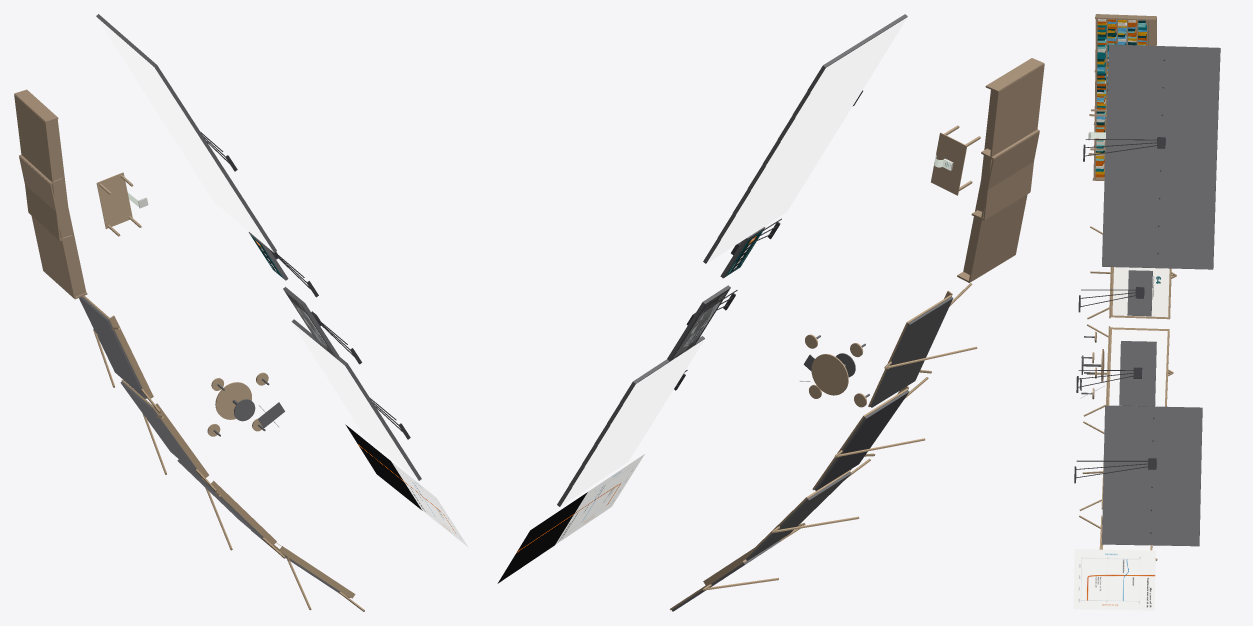
File: museum_room_6.glb
The picture shows the model from 3 angles, left to right: view 1: azimuth 30°, elevation 25°; view 2: azimuth 150°, elevation 25°; view 3: azimuth 270°, elevation 25°; orthographic projection. The views are drawn at different scales.
Parts seen in each view (by area): view 1: Regale r6_shelf, Träger mo_numbers, Pult r6_book, Tisch r6_table, Raum 6 Tür Strich über r6_door, Platzhalter r6_door, Träger mo_ride, Staffelei mo_numbers, Staffelei mo_ride, Staffelei mo_decisions, Staffelei mo_credits, Platzhalter r6_mistakes 0 (+7 smaller); view 2: Regale r6_shelf, Träger mo_numbers, Träger mo_ride, Raum 6 Tür Strich über r6_door, Platzhalter r6_door, Tisch r6_table, Pult r6_book, Platzhalter r6_mistakes 6, Platzhalter r6_mistakes 5, Platzhalter r6_mistakes 4, Platzhalter r6_mistakes 0, Platzhalter r6_mistakes 3 (+14 smaller); view 3: Platzhalter r6_door, Rückseite r6_mistakes 7, Rückseite r6_mistakes 3, Rückseite r6_mistakes 2, Rückseite r6_mistakes 1, Rückseite r6_mistakes 5, Rückseite r6_mistakes 6, Rückseite r6_mistakes 0, Rückseite r6_mistakes 4, Rückseite r6_plans 5, Rückseite r6_plans 1, Rückseite r6_plans 4 (+22 smaller).
Part boxes in pixels (x1,y1,x2,y2): Regale r6_shelf: [14, 89, 87, 299]; Träger mo_numbers: [79, 296, 146, 398]; Pult r6_book: [96, 172, 141, 236]; Tisch r6_table: [207, 372, 268, 436]; Raum 6 Tür Strich über r6_door: [345, 424, 422, 510]; Platzhalter r6_door: [392, 462, 468, 547]; Träger mo_ride: [120, 381, 201, 478]; Staffelei mo_numbers: [83, 296, 160, 412]; Staffelei mo_ride: [121, 379, 216, 491]; Staffelei mo_decisions: [202, 478, 285, 558]; Staffelei mo_credits: [273, 542, 364, 611]; Platzhalter r6_mistakes 0: [199, 179, 273, 252]; Regale r6_shelf: [957, 58, 1044, 282]; Träger mo_numbers: [870, 296, 953, 407]; Träger mo_ride: [814, 390, 909, 490]; Raum 6 Tür Strich über r6_door: [497, 492, 587, 583]; Platzhalter r6_door: [555, 454, 644, 544]; Tisch r6_table: [805, 334, 866, 407]; Pult r6_book: [931, 125, 980, 195]; Platzhalter r6_mistakes 6: [795, 41, 892, 117]; Platzhalter r6_mistakes 5: [780, 65, 877, 141]; Platzhalter r6_mistakes 4: [766, 89, 862, 165]; Platzhalter r6_mistakes 0: [706, 188, 801, 263]; Platzhalter r6_mistakes 3: [751, 114, 847, 190]; Platzhalter r6_door: [1073, 549, 1155, 610]; Rückseite r6_mistakes 7: [1108, 44, 1220, 76]; Rückseite r6_mistakes 3: [1104, 156, 1216, 187]; Rückseite r6_mistakes 2: [1103, 184, 1215, 214]; Rückseite r6_mistakes 1: [1102, 212, 1214, 242]; Rückseite r6_mistakes 5: [1106, 101, 1218, 131]; Rückseite r6_mistakes 6: [1107, 73, 1219, 104]; Rückseite r6_mistakes 0: [1102, 239, 1214, 269]; Rückseite r6_mistakes 4: [1105, 128, 1217, 159]; Rückseite r6_plans 5: [1104, 405, 1202, 431]; Rückseite r6_plans 1: [1102, 499, 1200, 523]; Rückseite r6_plans 4: [1104, 429, 1202, 454].
Bounding box in the file's own units: 14.32 × 19 × 5.92.
48 materials, 18 textured.
